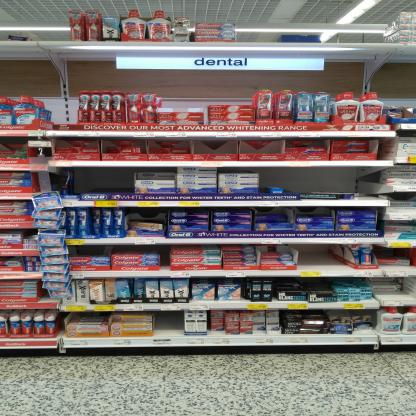Void: (265, 166, 371, 191), (73, 170, 133, 192), (48, 93, 78, 125), (298, 245, 339, 268), (160, 90, 206, 107), (208, 89, 250, 104), (158, 312, 181, 334), (380, 248, 411, 258)
